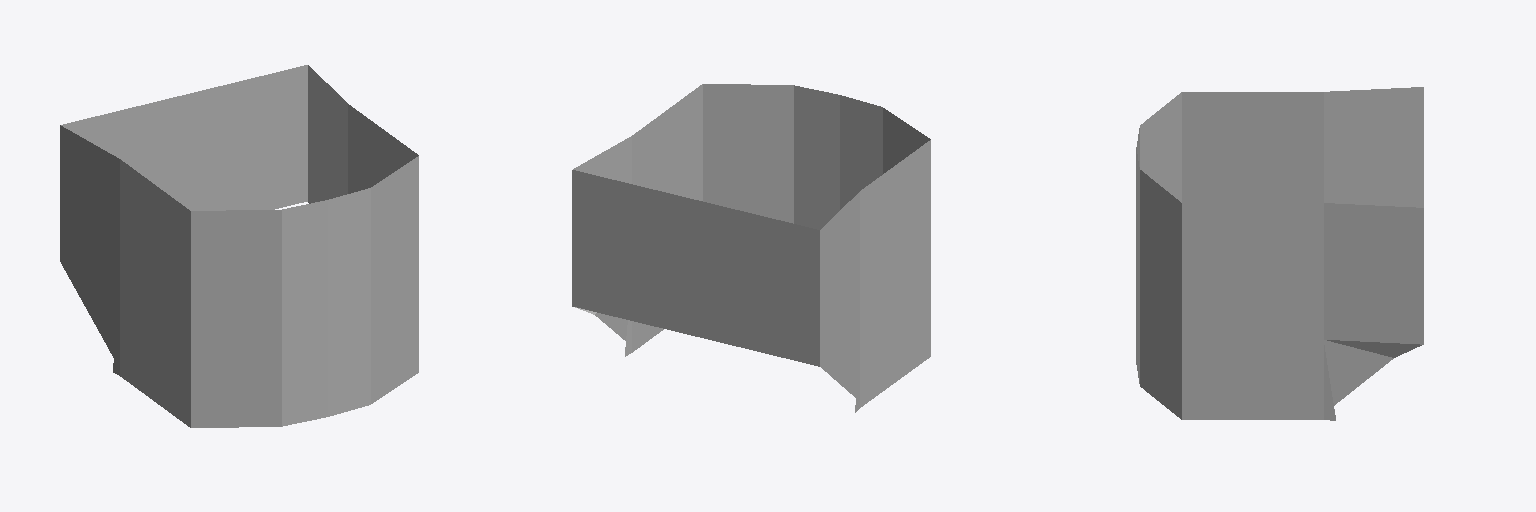
Rendered from room_walls.obj.
The picture shows the model from 3 angles: view 1: azimuth 30°, elevation 25°; view 2: azimuth 150°, elevation 25°; view 3: azimuth 270°, elevation 25°; orthographic projection.
Bounding box in the file's own units: 114 × 95.3 × 114.